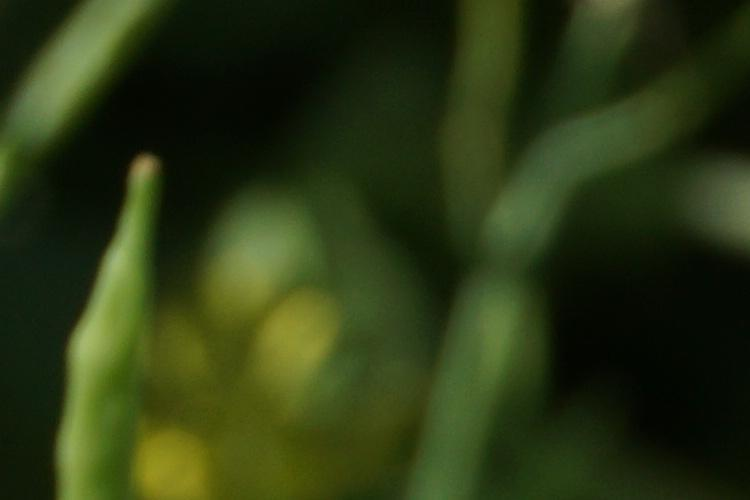pod: (48, 152, 165, 487)
